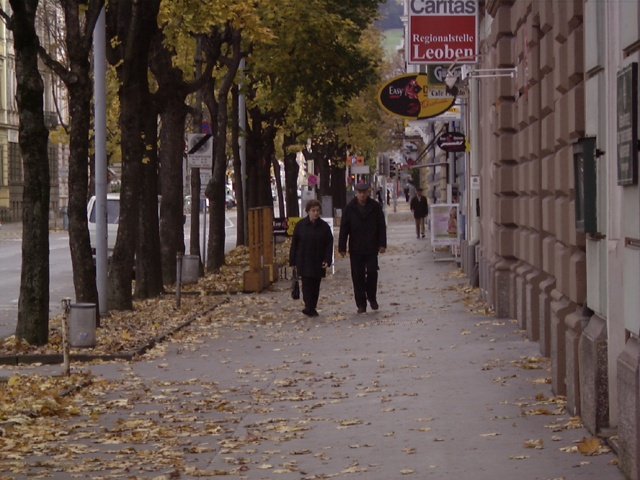person: (336, 180, 388, 311), (287, 192, 335, 315)
